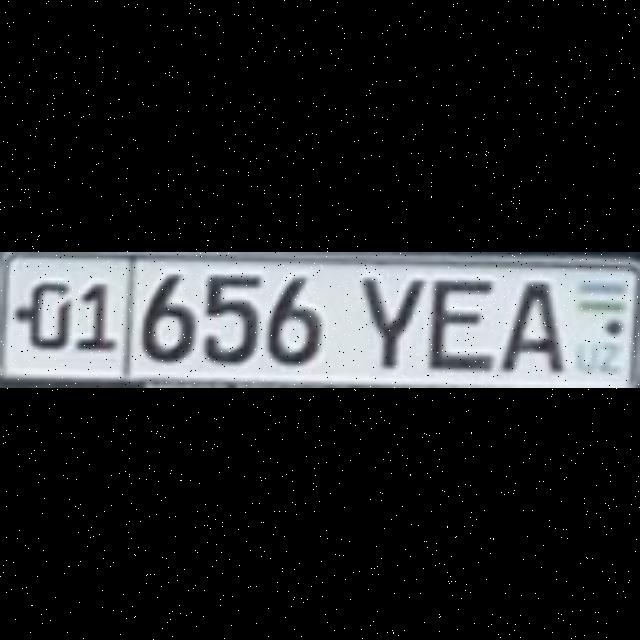0: (26, 278, 68, 346)
1: (72, 282, 110, 346)
5: (201, 271, 253, 359)
6: (136, 268, 188, 359), (263, 272, 315, 362)
A: (494, 277, 558, 368)
E: (426, 278, 490, 366)
Y: (357, 274, 419, 366)
